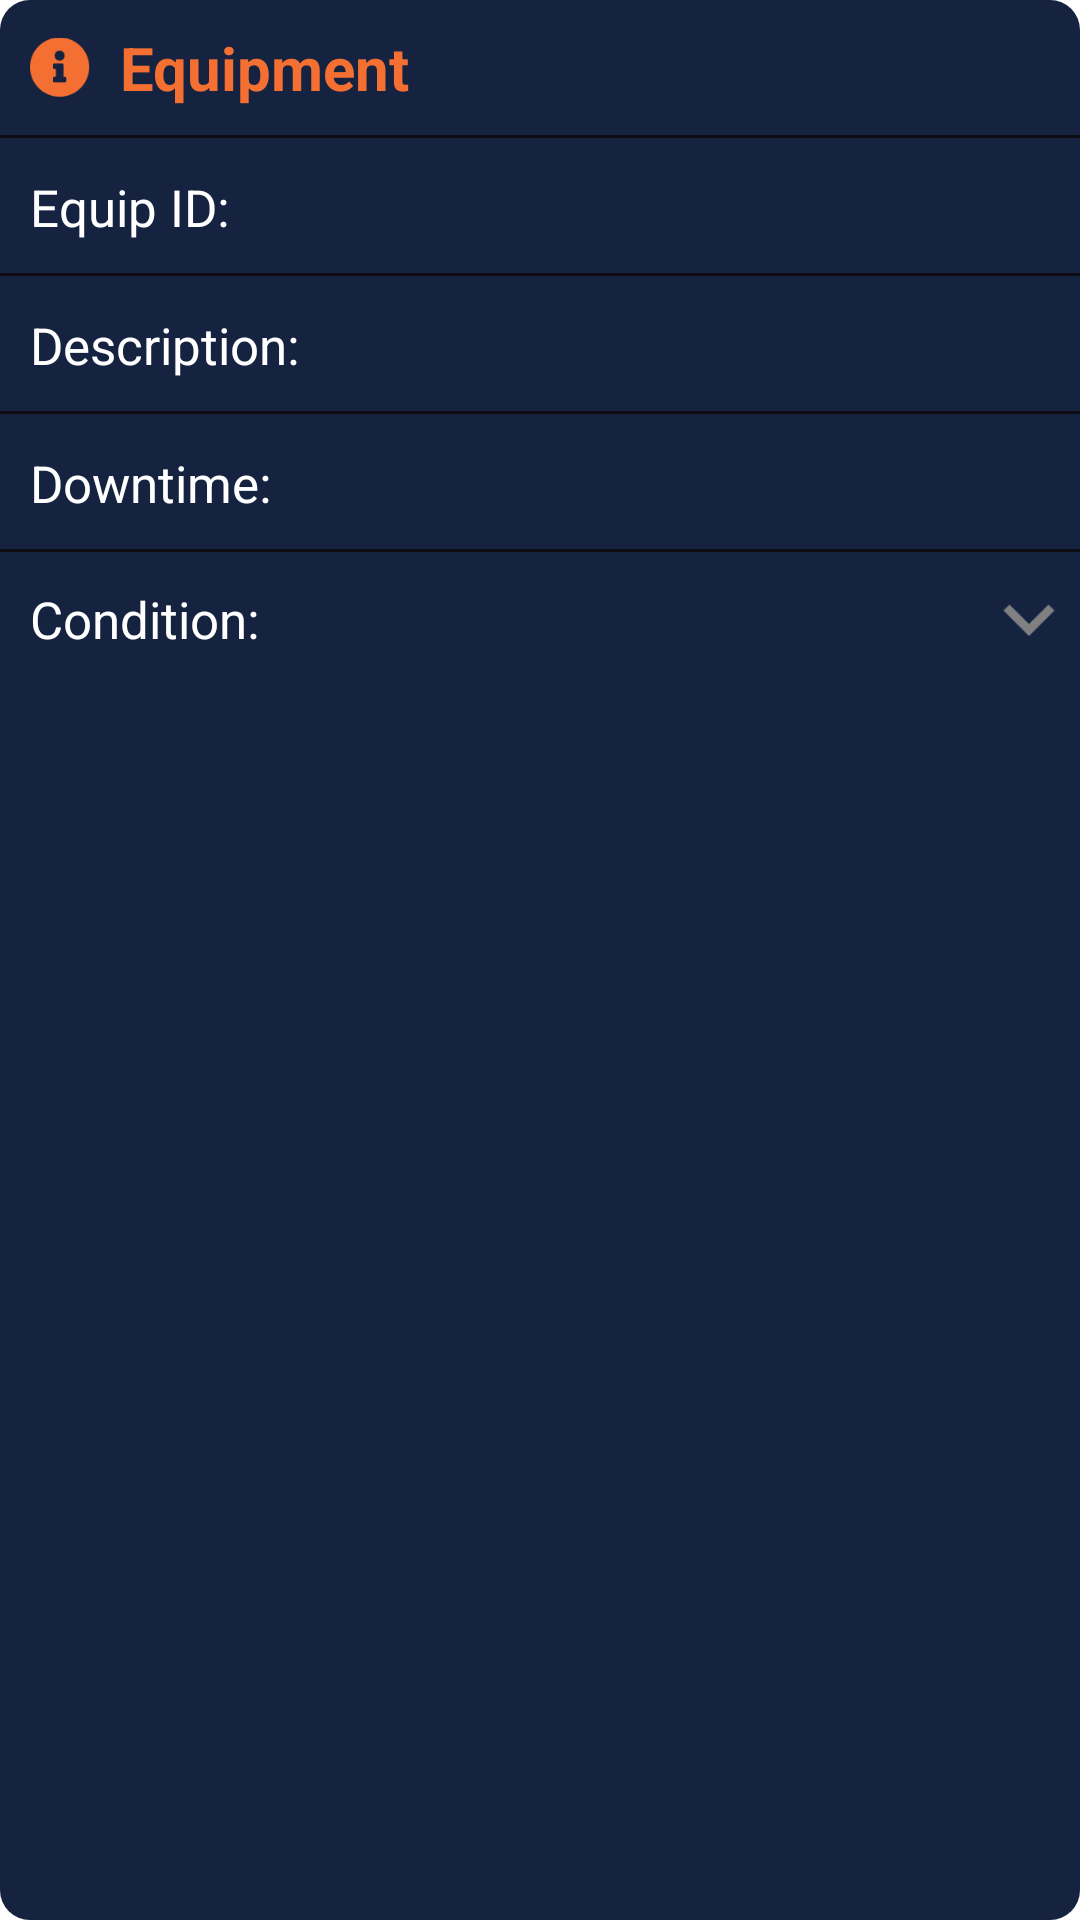

Icon bounding boxes for this 1080*1920 phone screenshot, format (x1, y1, x2, y2):
down arrow: (1003, 605, 1055, 636)
info circle: (30, 38, 89, 97)
